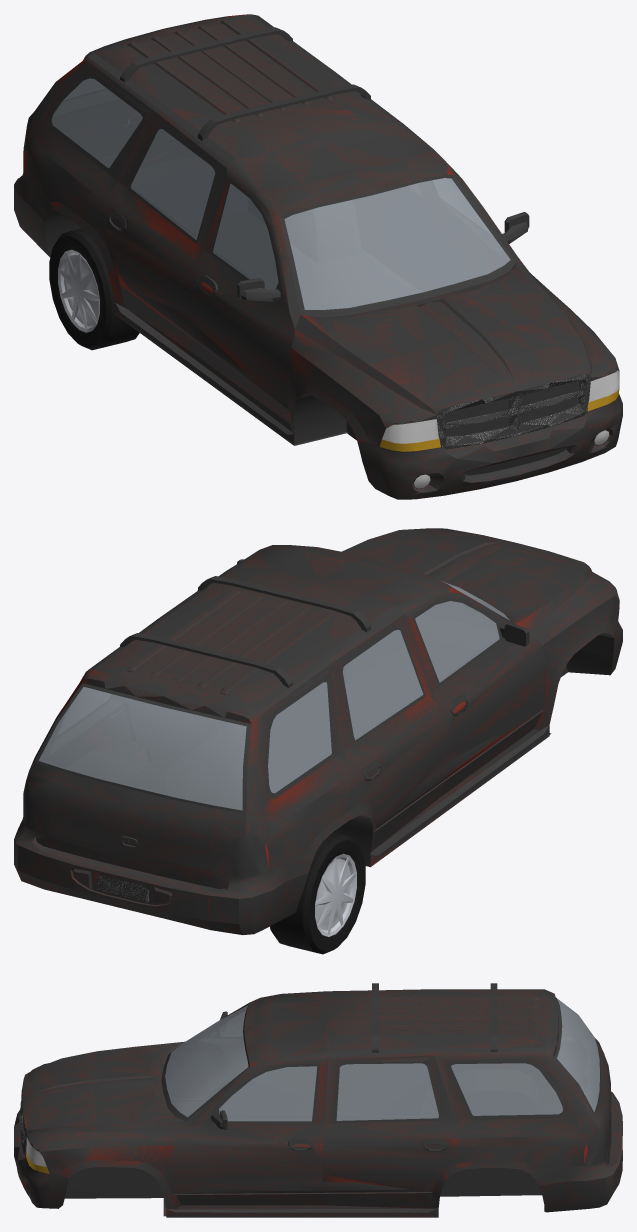
Rendered from SUV2.FBX.
3 views of the same model, one above another, from view 1: azimuth 30°, elevation 25°; view 2: azimuth 150°, elevation 25°; view 3: azimuth 270°, elevation 25° (orthographic). The views are drawn at different scales.
Parts seen in each view (by area): view 1: SUV2_Body, Wheel_RR, SUV2_HeadlightGlasses, SUV2_IndicatorLights; view 2: SUV2_Body, Wheel_RR; view 3: SUV2_Body.
Boxes of the visible parts, x1=… form: SUV2_Body: x1=14, y1=14, x2=622, y2=499; Wheel_RR: x1=49, y1=228, x2=139, y2=350; SUV2_HeadlightGlasses: x1=382, y1=370, x2=619, y2=443; SUV2_IndicatorLights: x1=379, y1=389, x2=619, y2=451; SUV2_Body: x1=14, y1=528, x2=622, y2=934; Wheel_RR: x1=269, y1=832, x2=365, y2=954; SUV2_Body: x1=14, y1=983, x2=622, y2=1217.
Size of the model in its own units: 198 by 472 by 175.
